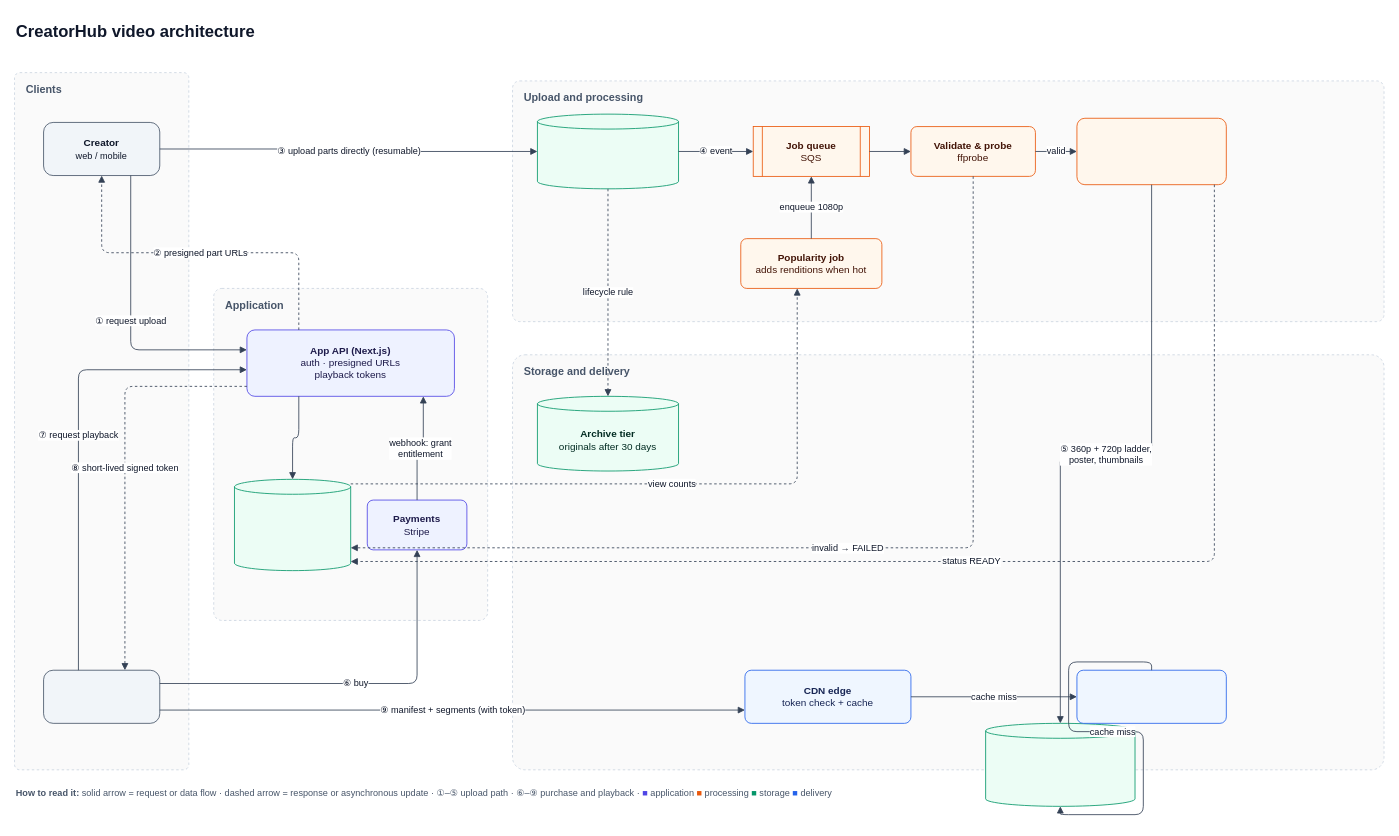
This 1399x836 diagram has some shape labels left out. Each missing label, with the centre of its shape:
"Delivery bucket HLS/CMAF segments + thumbnails" belongs at [1060,764].
"Metadata DB Postgres content · purchases entitlements · jobs" belongs at [292,524].
"Origin shield one regional cache" belongs at [1151,696].
"Transcode workers ffmpeg on spot, autoscaled" belongs at [1151,151].
"Uploads bucket originals · S3 / R2" belongs at [608,151].
"Viewer HLS player" belongs at [101,696].
